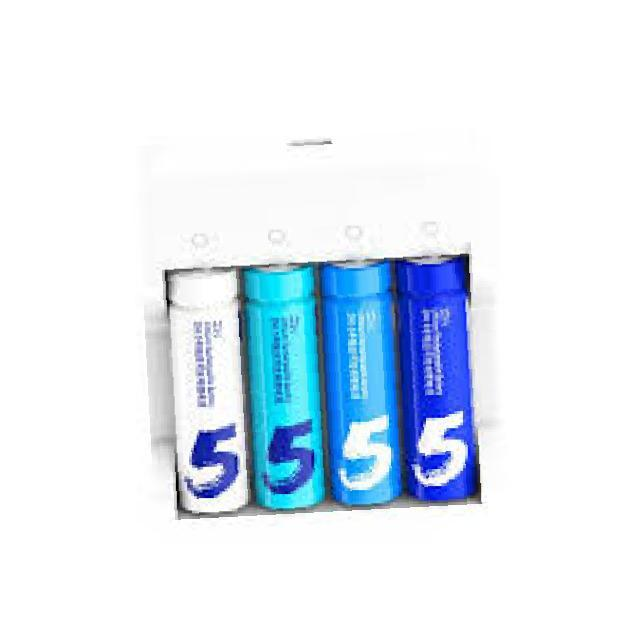Battery: (152, 261, 257, 528), (391, 234, 493, 504), (315, 251, 405, 503), (252, 247, 329, 528)
